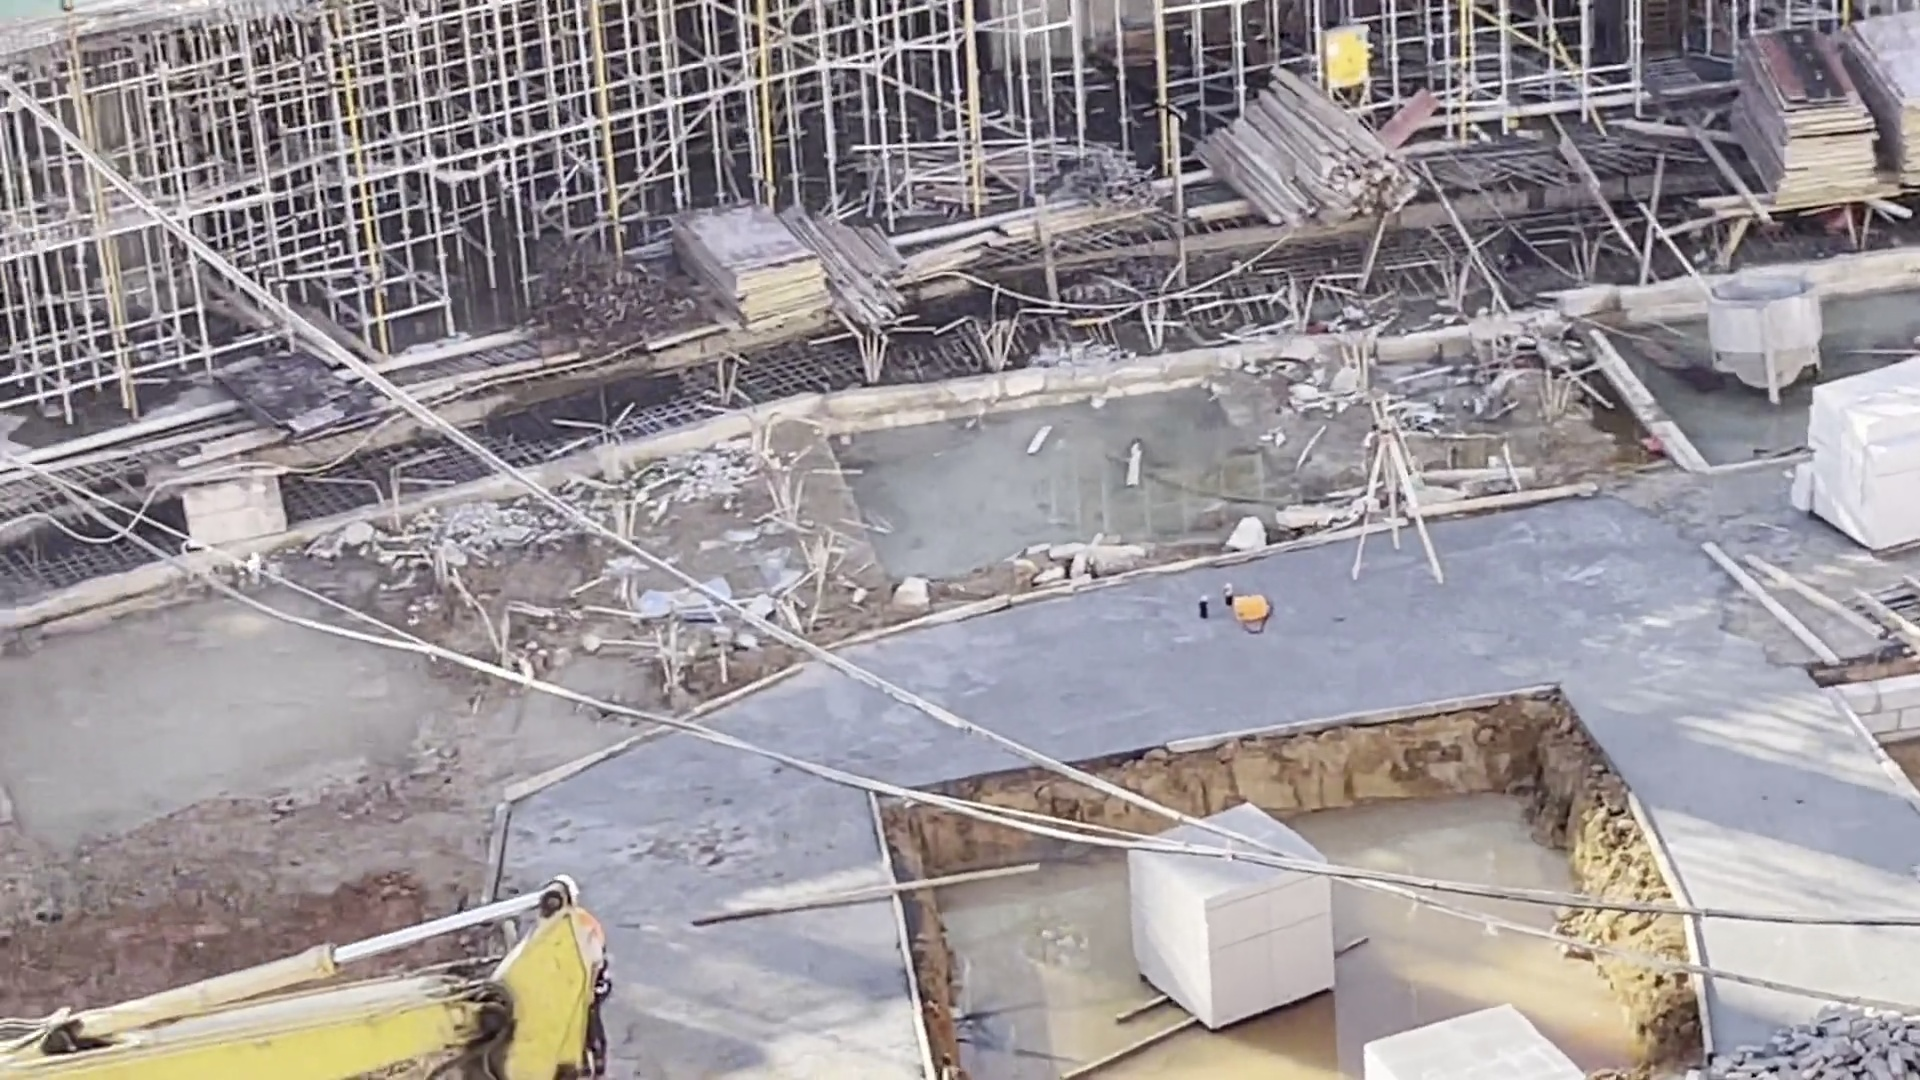board: (1724, 36, 1920, 202), (713, 200, 829, 324)
brick: (1121, 819, 1350, 1006), (1296, 1000, 1563, 1080), (1818, 359, 1920, 549)
ebox: (1327, 34, 1378, 102)
wood: (1259, 55, 1394, 214)
